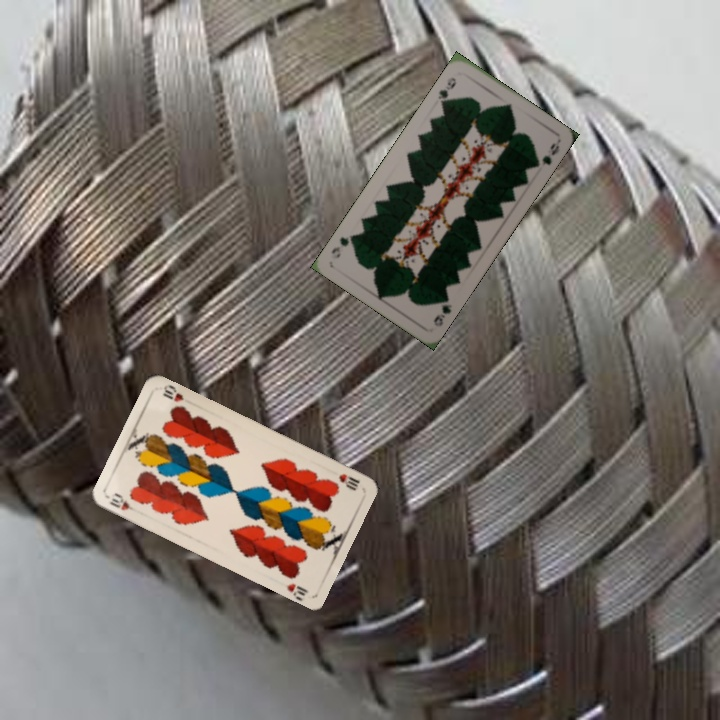G9: (429, 291, 454, 329), (434, 73, 459, 109)
H10: (105, 489, 142, 516), (335, 469, 362, 493)
